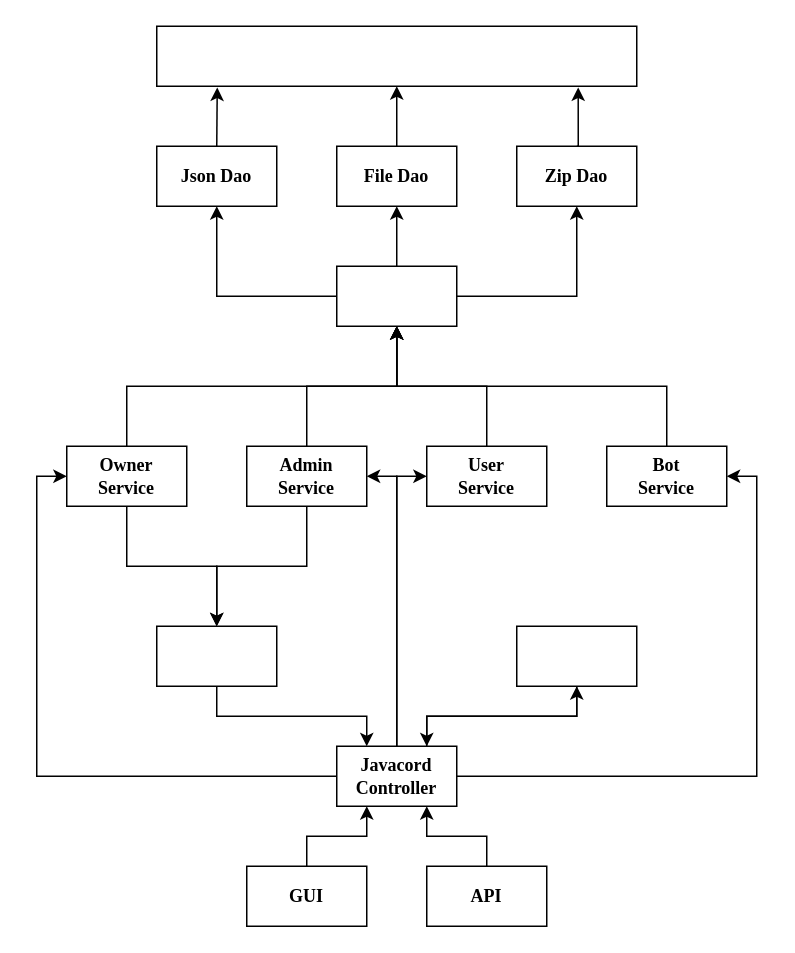
Some shapes in this 795 by 953 pixel diagram are drawn without their labels. Here are the shapes that lost their labels. From the top down, the centre of each, then its label:
At point (396, 55): "File System".
At point (396, 295): "Data Service".
At point (216, 655): "Access Service".
At point (576, 655): "Login Service".
